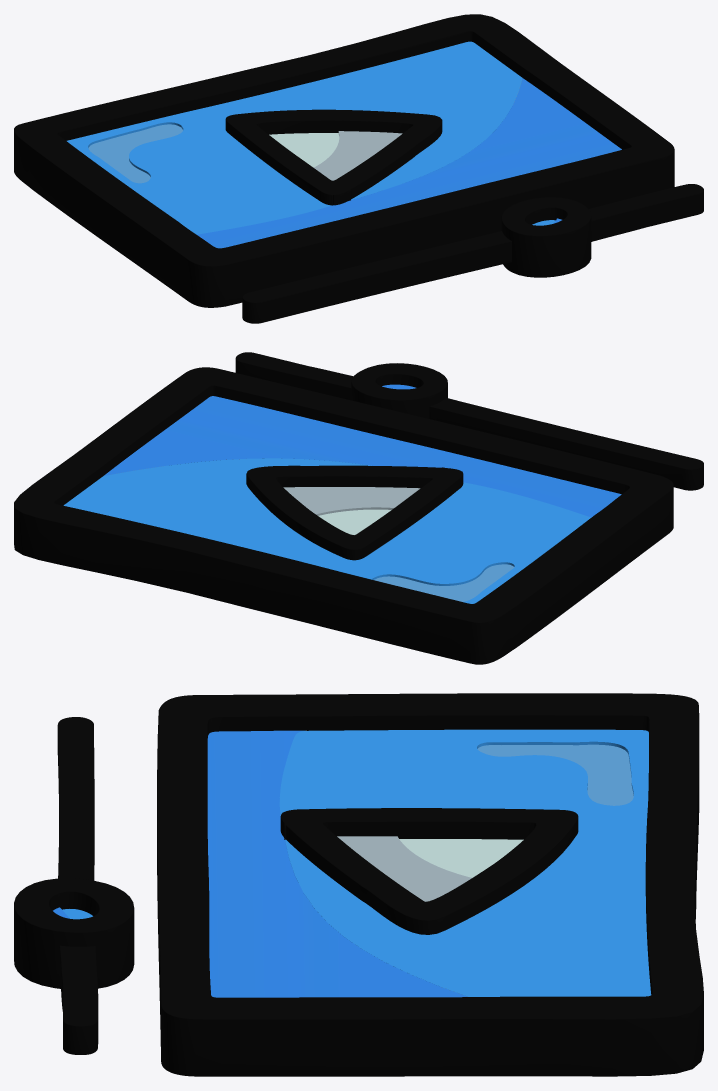
File: Movie.glb
3 renders of one model, top to bottom at view 1: azimuth 30°, elevation 25°; view 2: azimuth 150°, elevation 25°; view 3: azimuth 270°, elevation 25°, orthographic. The views are drawn at different scales.
Visible parts, largest first — view 1: Curve.004; view 2: Curve.004; view 3: Curve.004.
Boxes of the visible parts, x1=… form: Curve.004: x1=14, y1=14, x2=703, y2=323; Curve.004: x1=14, y1=352, x2=703, y2=664; Curve.004: x1=14, y1=693, x2=703, y2=1076.
Bounding box in the file's own units: 2.43 × 0.2 × 2.17.
Materials: 1 (1 with a texture image).
